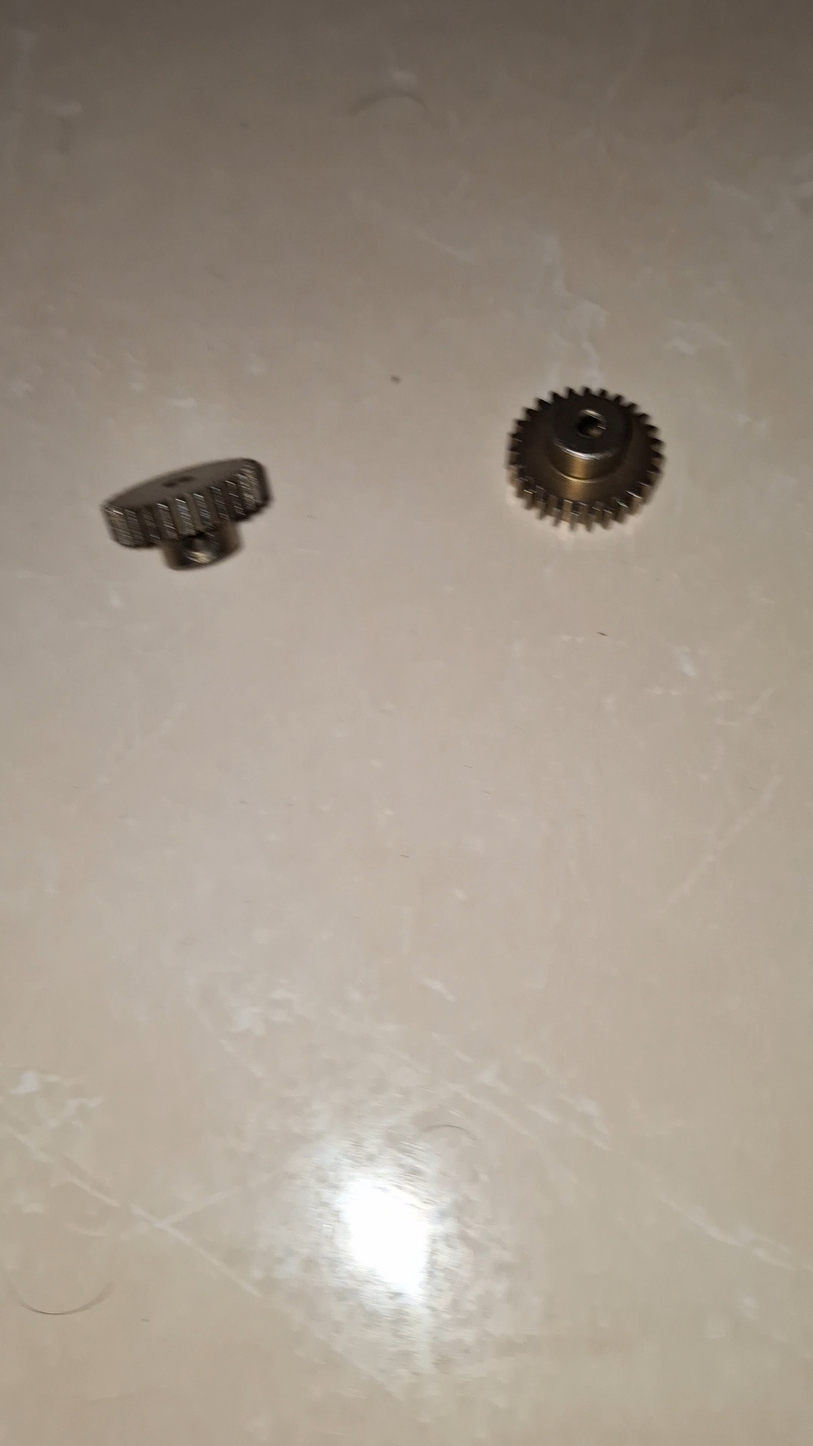spur gear: (508, 389, 663, 526), (102, 458, 270, 568)
